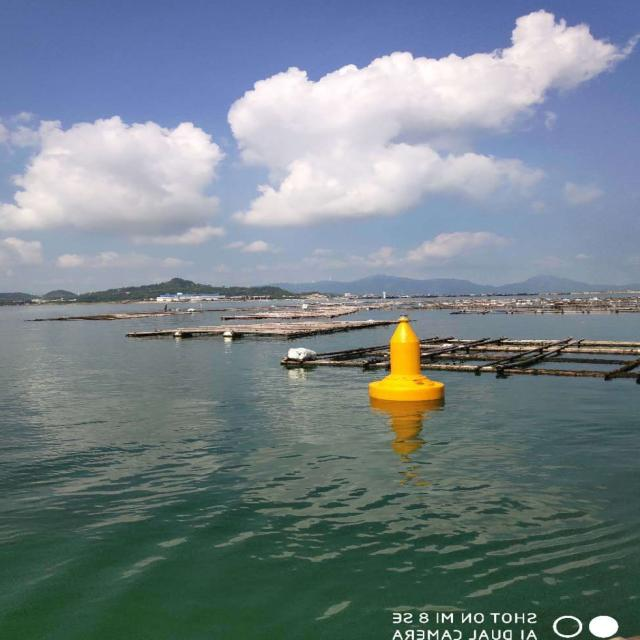buoy: (364, 311, 445, 406)
